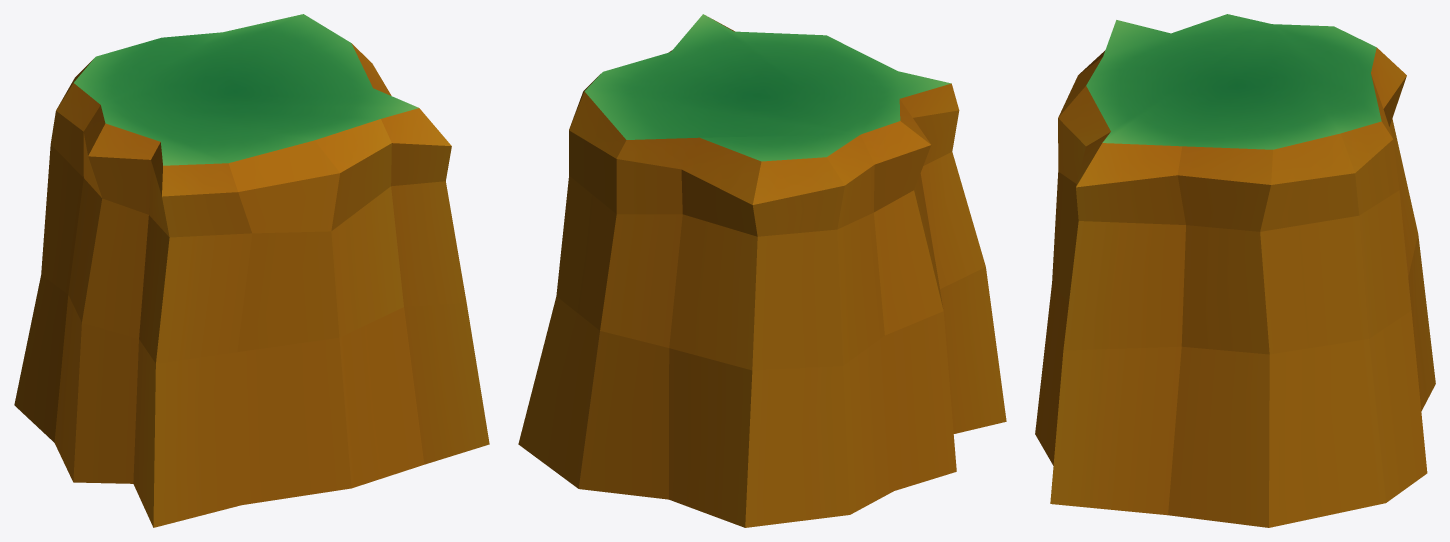
File: cliff_1.fbx
The picture shows the model from 3 angles, left to right: view 1: azimuth 30°, elevation 25°; view 2: azimuth 150°, elevation 25°; view 3: azimuth 270°, elevation 25°; orthographic projection. The views are drawn at different scales.
Visible parts, largest first — view 1: Plane; view 2: Plane; view 3: Plane.
Boxes of the visible parts, bbox=[...] form: Plane: bbox=[14, 14, 489, 527]; Plane: bbox=[518, 14, 1006, 527]; Plane: bbox=[1035, 14, 1435, 527].
Bounding box in the file's own units: 1031 × 970 × 970.
